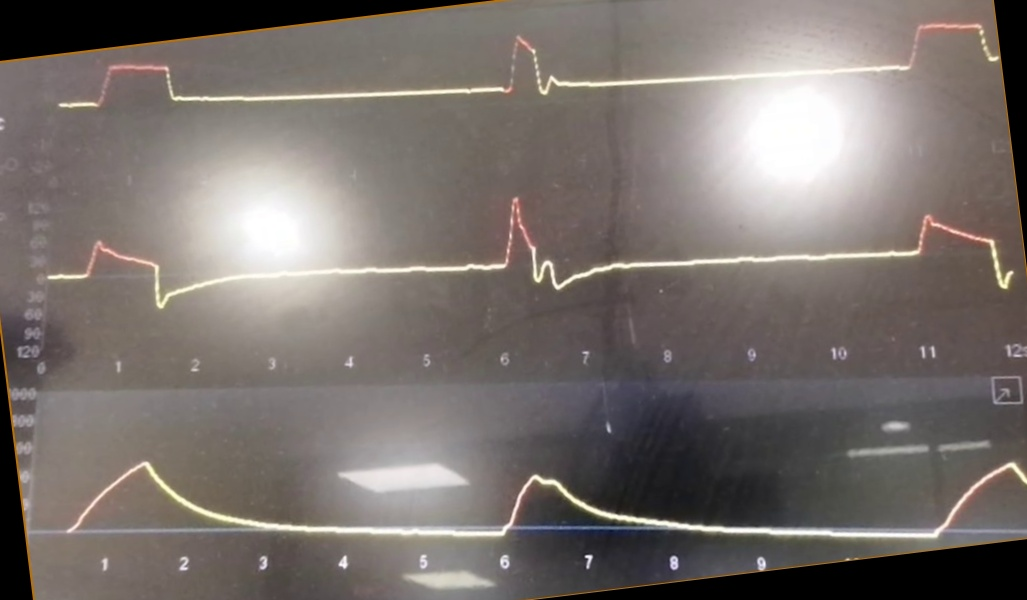Premature_cycling Flow: (51, 193, 1019, 331)
Premature_cycling Volume: (44, 434, 1026, 542)
